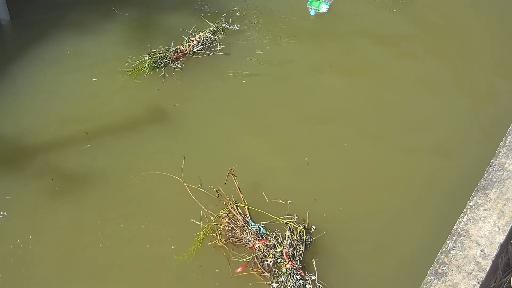plastic: (290, 0, 338, 21)
twig: (163, 150, 329, 288), (136, 11, 253, 73)
